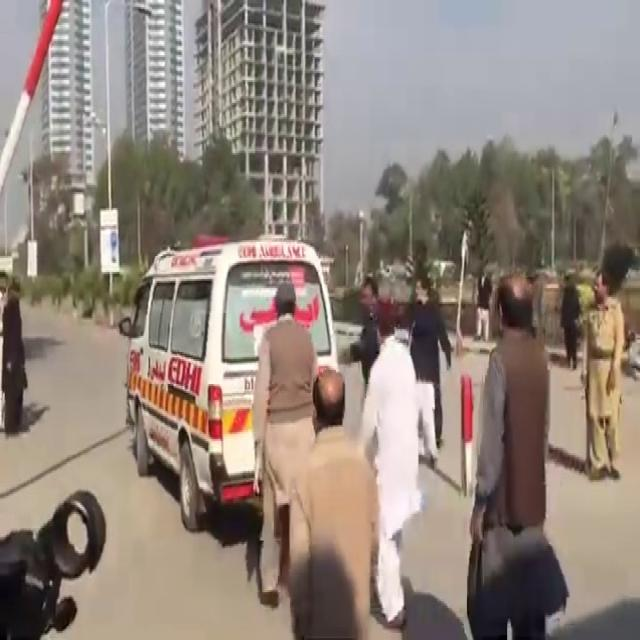ambulance: (124, 218, 348, 530)
